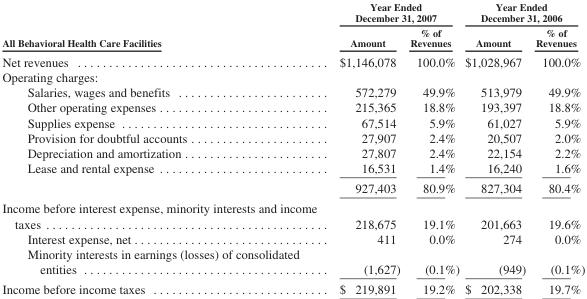table: (1, 1, 584, 296)
table column: (1, 1, 327, 296), (327, 1, 404, 296), (461, 1, 530, 296), (404, 1, 461, 296), (530, 1, 584, 296)
table column header: (1, 1, 584, 51)
table projected row header: (1, 69, 584, 84)
table row: (1, 198, 584, 230), (1, 246, 584, 278), (1, 24, 584, 51), (1, 1, 584, 24), (1, 177, 584, 198), (1, 51, 584, 69), (1, 278, 584, 296), (1, 160, 584, 177), (1, 129, 584, 145), (1, 230, 584, 246), (1, 69, 584, 84), (1, 84, 584, 99), (1, 99, 584, 114), (1, 114, 584, 129), (1, 145, 584, 160)
table spanning cell: (1, 1, 327, 51), (327, 1, 461, 24), (461, 1, 584, 24)
